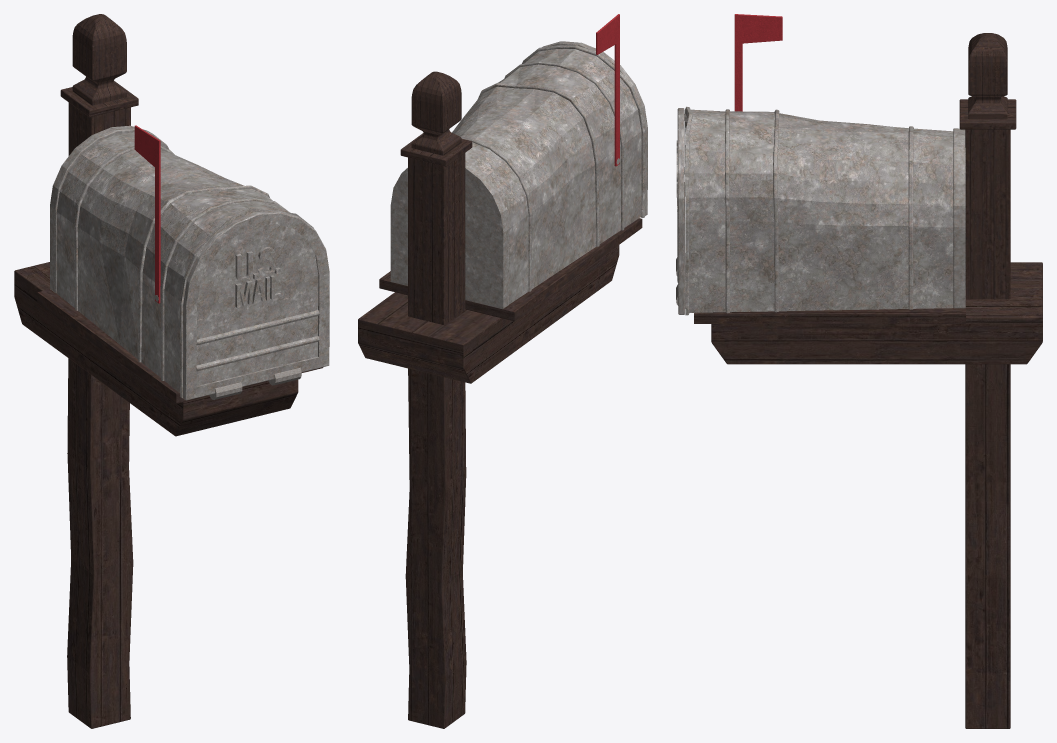
The model's file is mailbox.glb.
3 renders of one model, left to right at view 1: azimuth 30°, elevation 25°; view 2: azimuth 150°, elevation 25°; view 3: azimuth 270°, elevation 25°, orthographic. The views are drawn at different scales.
Visible parts, largest first — view 1: mailboxPole, mailboxBody, mailboxDoor, mailboxFlag, mailboxDoorHinges; view 2: mailboxPole, mailboxBody, mailboxFlag, mailboxDoor; view 3: mailboxBody, mailboxPole, mailboxFlag, mailboxDoor.
Part boxes in pixels (bbox=[...]): mailboxPole: bbox=[14, 14, 323, 728]; mailboxBody: bbox=[50, 125, 314, 398]; mailboxDoor: bbox=[183, 210, 329, 400]; mailboxFlag: bbox=[134, 125, 160, 303]; mailboxDoorHinges: bbox=[209, 367, 301, 399]; mailboxPole: bbox=[358, 71, 642, 728]; mailboxBody: bbox=[390, 45, 645, 309]; mailboxFlag: bbox=[596, 14, 619, 166]; mailboxDoor: bbox=[542, 41, 647, 215]; mailboxBody: bbox=[684, 106, 965, 315]; mailboxPole: bbox=[694, 33, 1042, 728]; mailboxFlag: bbox=[734, 14, 782, 111]; mailboxDoor: bbox=[676, 108, 684, 314].
Size of the model in its own units: 0.3937 by 1.79 by 0.8685.
3 materials, 3 textured.
